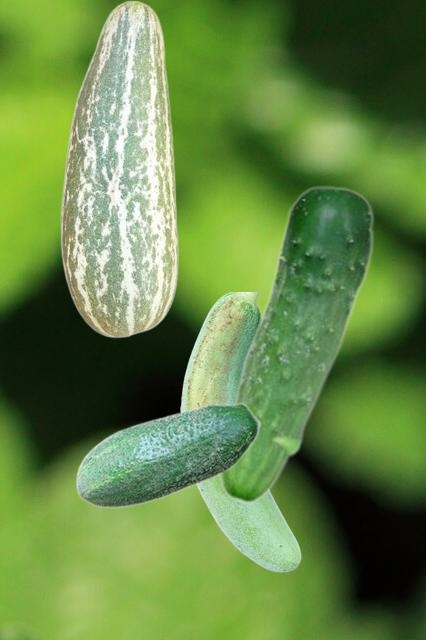cucumber: (218, 185, 374, 503), (60, 0, 178, 337), (180, 292, 300, 571), (75, 402, 260, 507)
